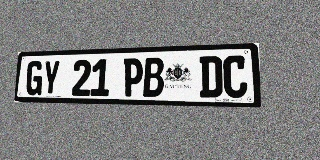1: (90, 59, 110, 96)
2: (72, 59, 91, 96)
B: (143, 57, 164, 97)
C: (223, 55, 248, 98)
D: (199, 56, 223, 98)
G: (25, 61, 43, 95)
P: (122, 58, 143, 97)
Y: (42, 60, 60, 95)
